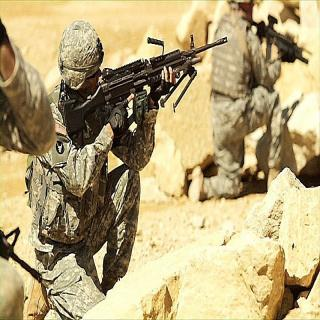gun: (57, 29, 229, 130)
